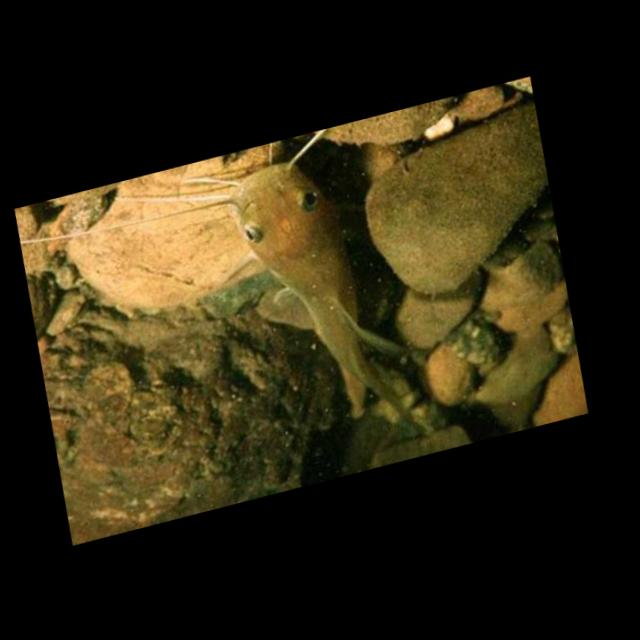fish: (127, 112, 469, 495)
